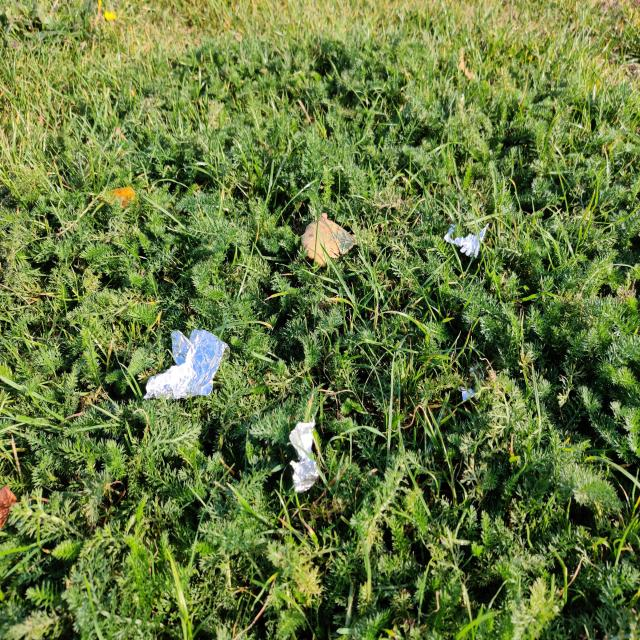litter: (143, 326, 237, 406), (281, 409, 330, 505), (443, 217, 496, 260)
